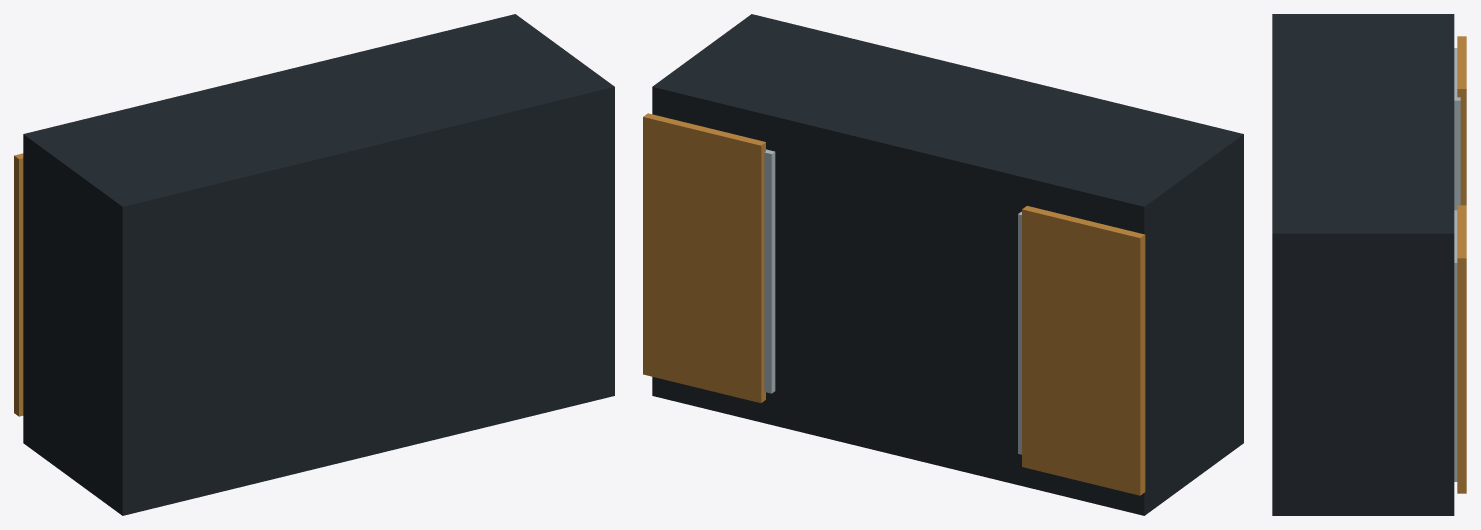
3 views of the same model, side by side, from view 1: azimuth 30°, elevation 25°; view 2: azimuth 150°, elevation 25°; view 3: azimuth 270°, elevation 25° (orthographic). The views are drawn at different scales.
Visible parts, largest first — view 1: D2; view 2: D2; view 3: D2.
Part boxes in pixels (left/top/right/bottom): D2: left=14, top=14, right=614, bottom=515; D2: left=643, top=14, right=1243, bottom=515; D2: left=1272, top=14, right=1466, bottom=515.
Size of the model in its own units: 0.00202 by 0.0012 by 0.000747.
